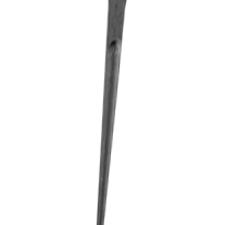Wrench: (77, 1, 145, 219)
